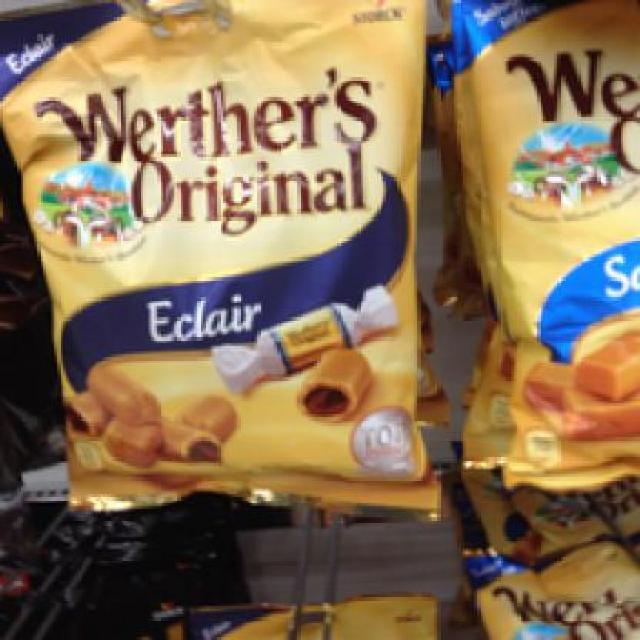Candy: (2, 20, 428, 509), (454, 9, 637, 488)
